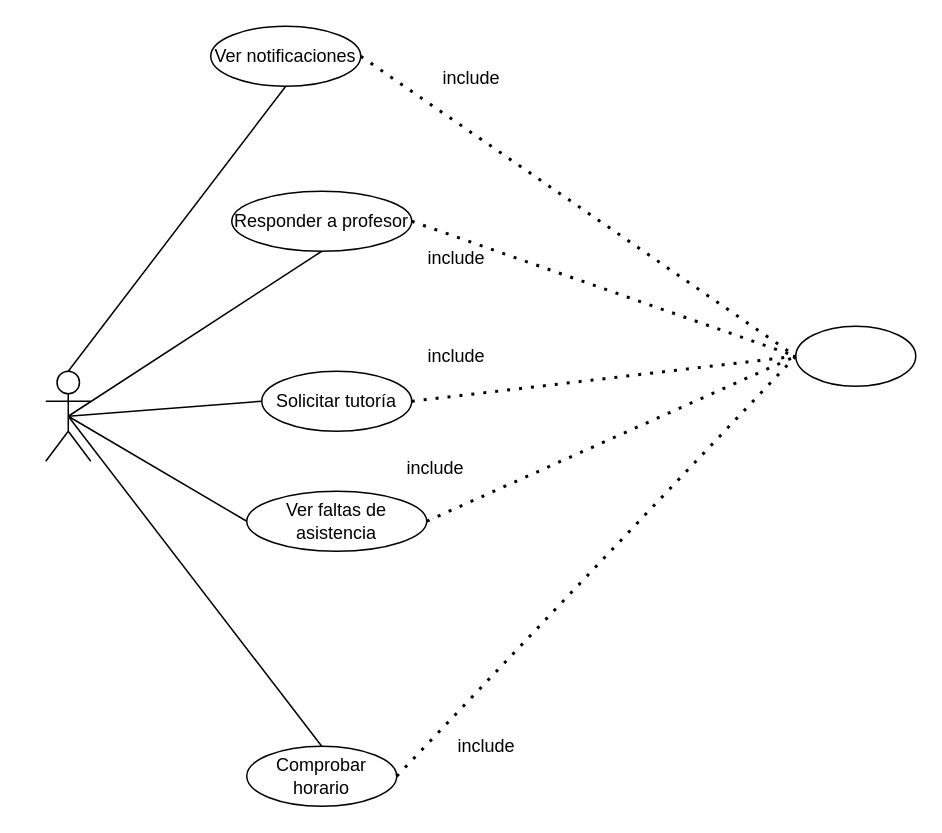
Image size: 942x833. Some labels were removed from this diagram. Here are the shapes that lost their labels. From the top down, the box of each, then its label:
(794, 325, 916, 386): iniciar sesion
(44, 370, 91, 461): Tutor legal
